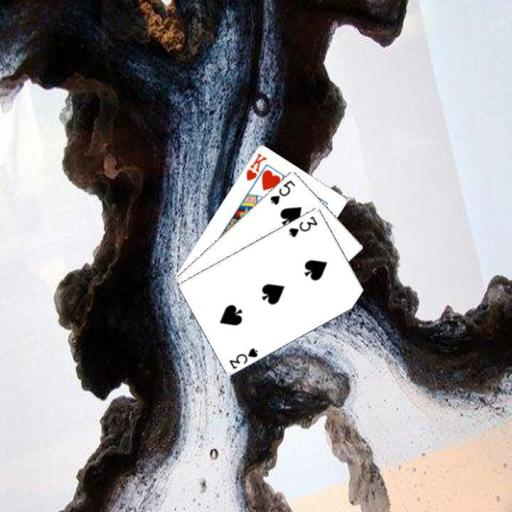3S: (226, 344, 260, 370), (286, 213, 319, 238)
5S: (267, 177, 297, 207)
KH: (243, 149, 268, 182)
